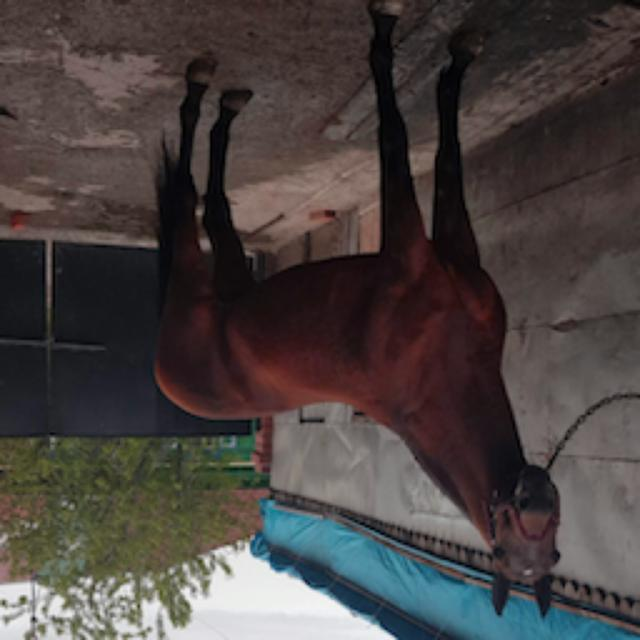Horse: (140, 2, 572, 626)
